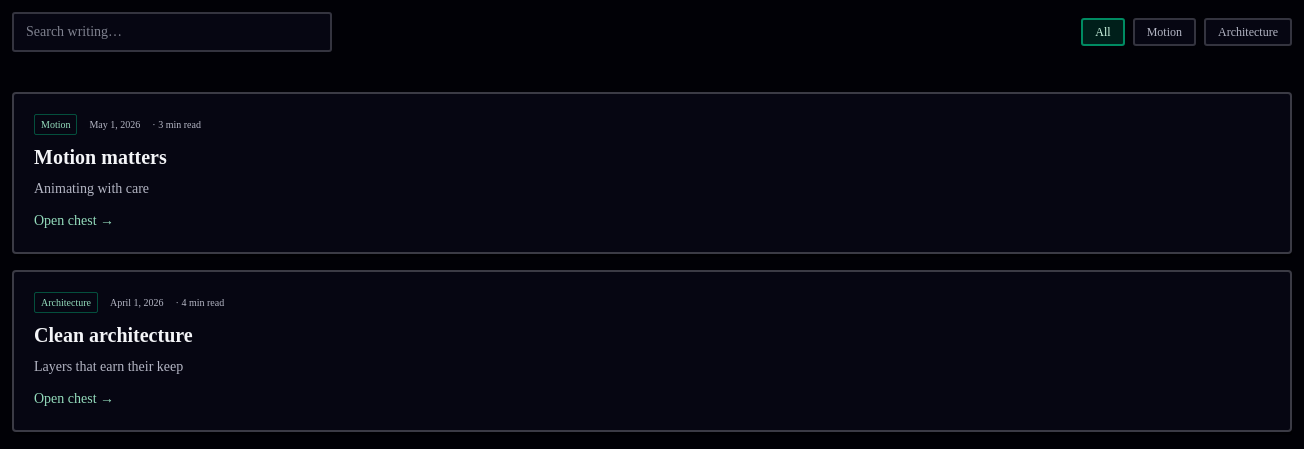
BlogIndex › filters by category
Click the button "Architecture" at (1248, 32), box [1204, 18, 1292, 46]
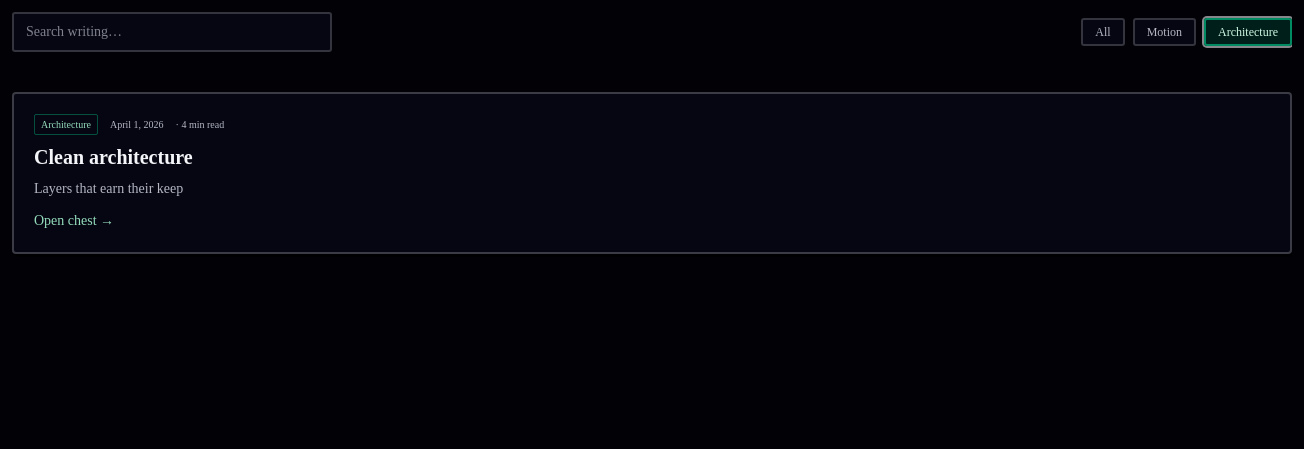
Check: the heading "Clean architecture" is shown, box [34, 146, 193, 168]
Check: the link "Motion matters" is gone
